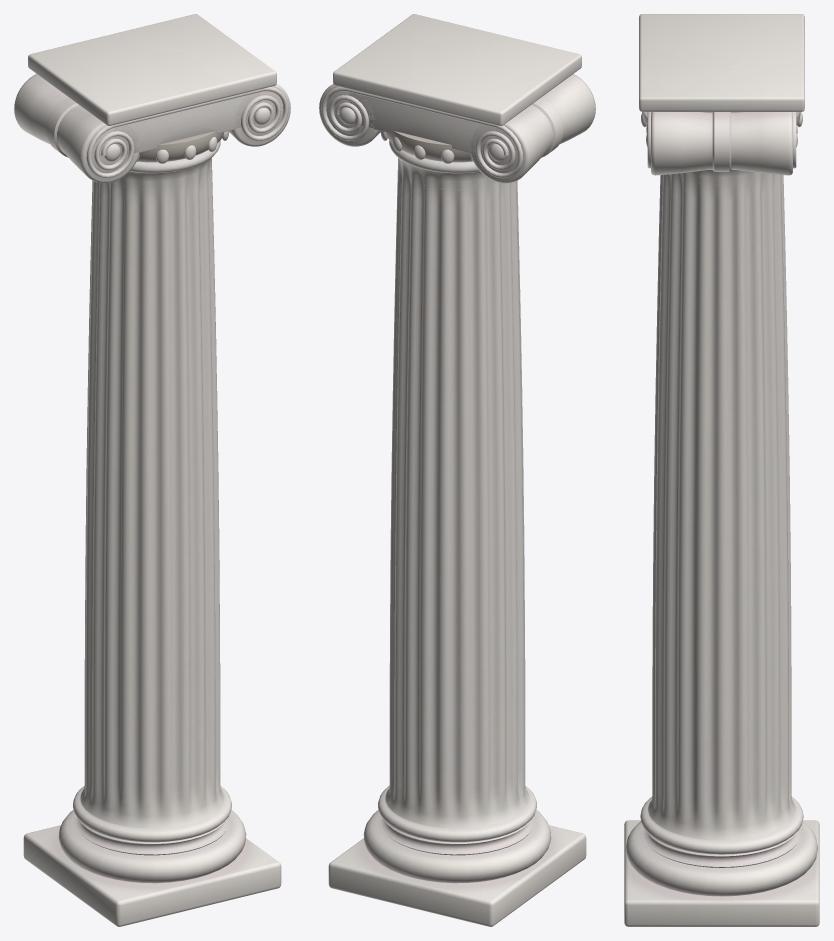
File: ionic-column.glb
3 renders of one model, left to right at view 1: azimuth 30°, elevation 25°; view 2: azimuth 150°, elevation 25°; view 3: azimuth 270°, elevation 25°, orthographic. The views are drawn at different scales.
Parts seen in each view (by area): view 1: ionic-column_body; view 2: ionic-column_body; view 3: ionic-column_body.
Part boxes in pixels (x1,y1,x2,y2): ionic-column_body: [14, 14, 290, 926]; ionic-column_body: [319, 14, 595, 926]; ionic-column_body: [624, 14, 819, 926].
Bounding box in the file's own units: 0.8399 × 3.1 × 0.6598.
1 material, 1 textured.
